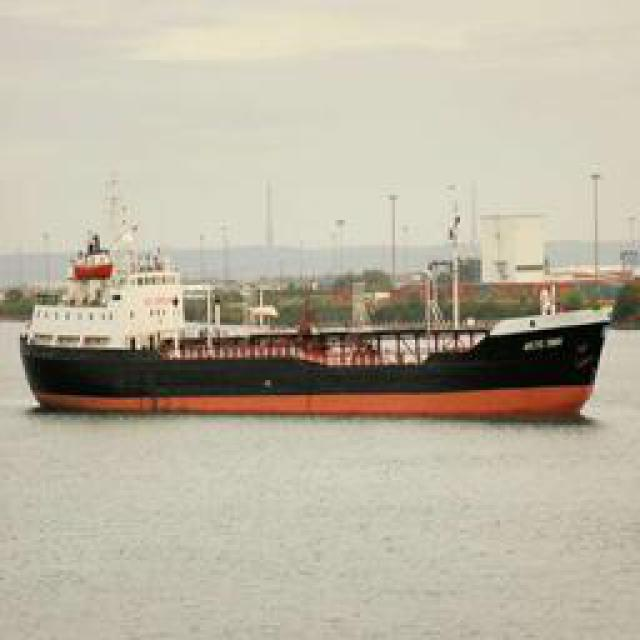Ship: (13, 262, 628, 425)
